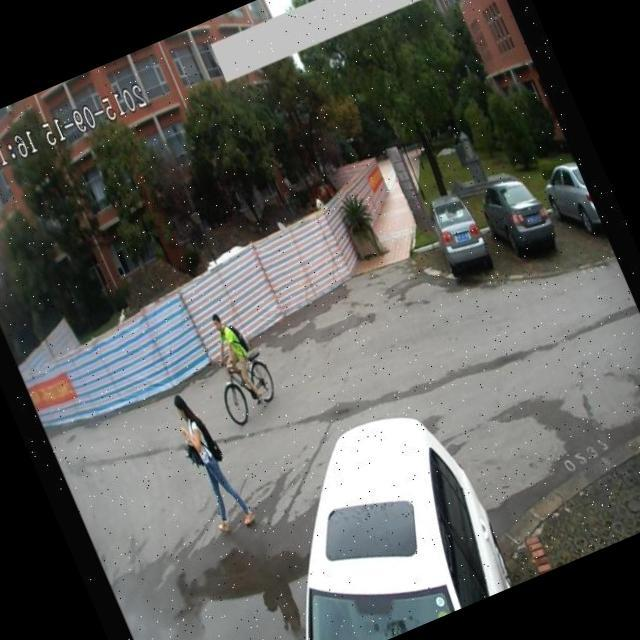person: (158, 382, 260, 541), (200, 301, 270, 413)
